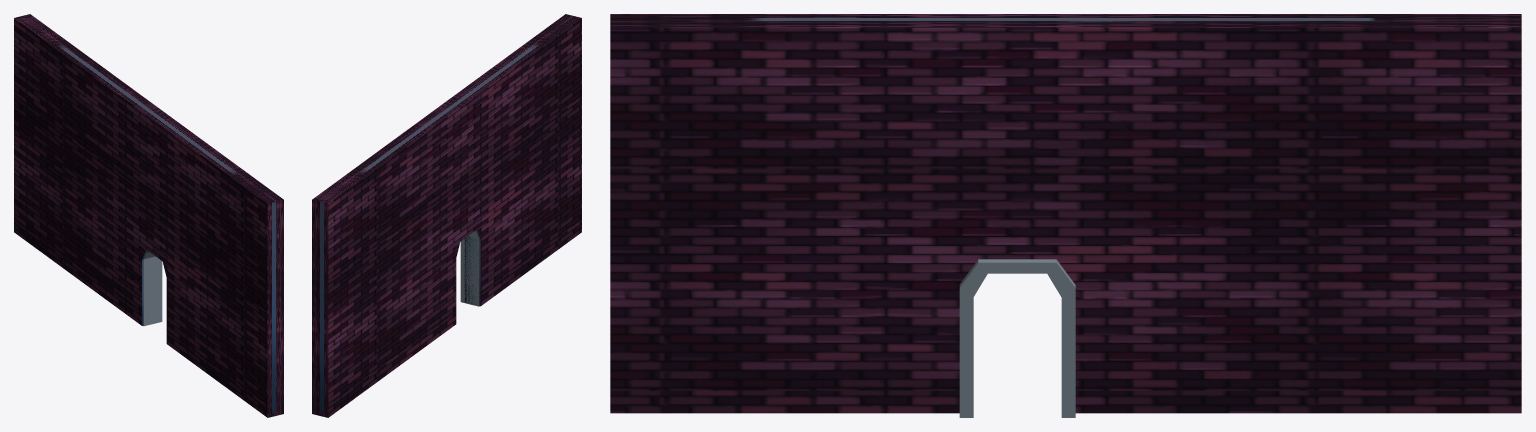
3 views of the same model, side by side, from view 1: azimuth 30°, elevation 25°; view 2: azimuth 150°, elevation 25°; view 3: azimuth 270°, elevation 25° (orthographic). The views are drawn at different scales.
Visible parts, largest first — view 1: 立方体, 立方体.002; view 2: 立方体, 立方体.002; view 3: 立方体, 立方体.002.
Boxes of the visible parts, box(x1,y1,x2,y2) form: 立方体: box(14, 14, 283, 417); 立方体.002: box(143, 252, 162, 326); 立方体: box(312, 14, 581, 417); 立方体.002: box(460, 230, 479, 306); 立方体: box(610, 14, 1521, 413); 立方体.002: box(959, 259, 1075, 417).
Bounding box in the file's own units: 2.49 × 25.34 × 54.15.
2 materials, 1 textured.
